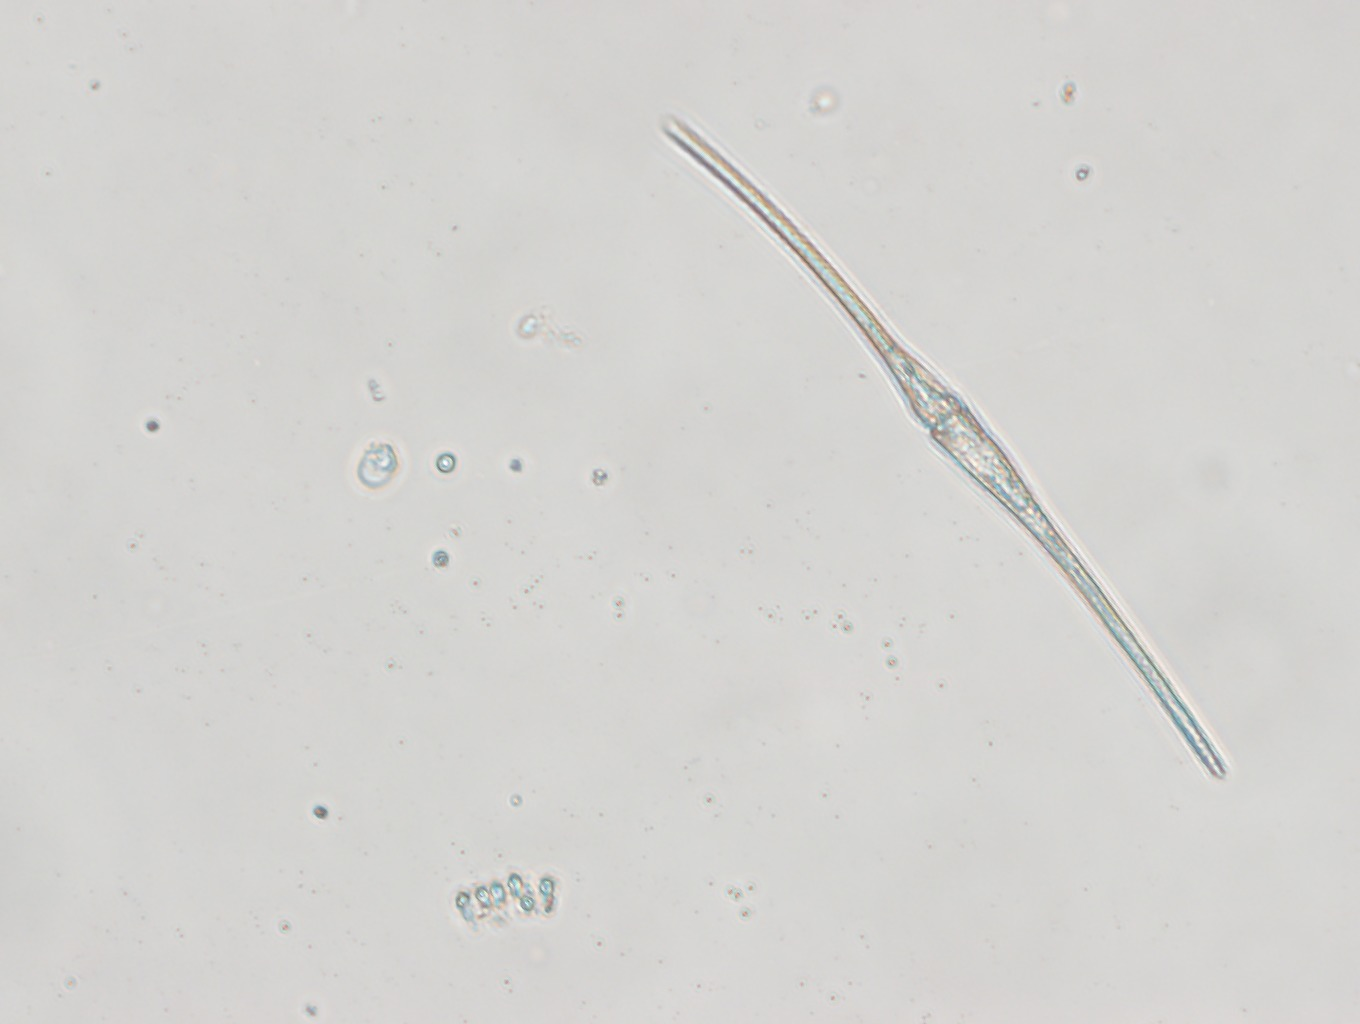ceratium fusus: (657, 113, 1233, 790)
